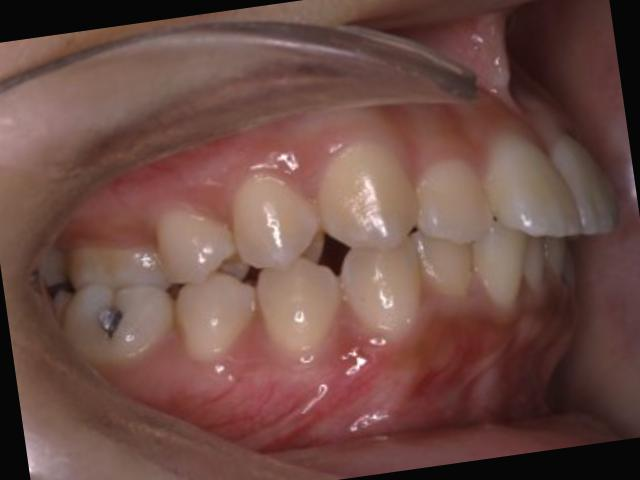canine class II 1/2: (237, 130, 443, 377)
molar class II 1/2: (54, 220, 184, 377)
